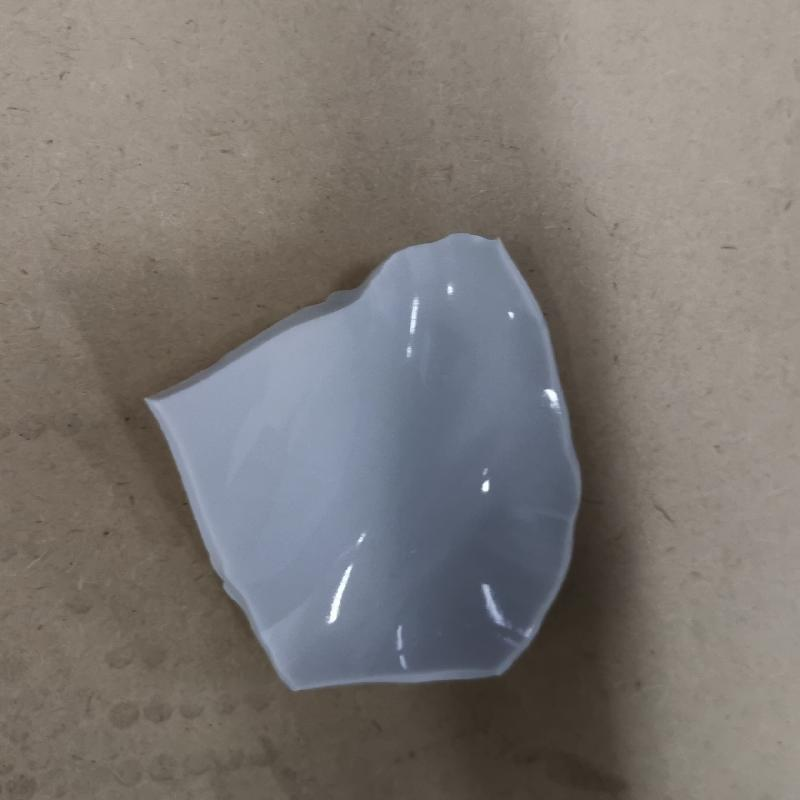ceram: (138, 232, 588, 695)
